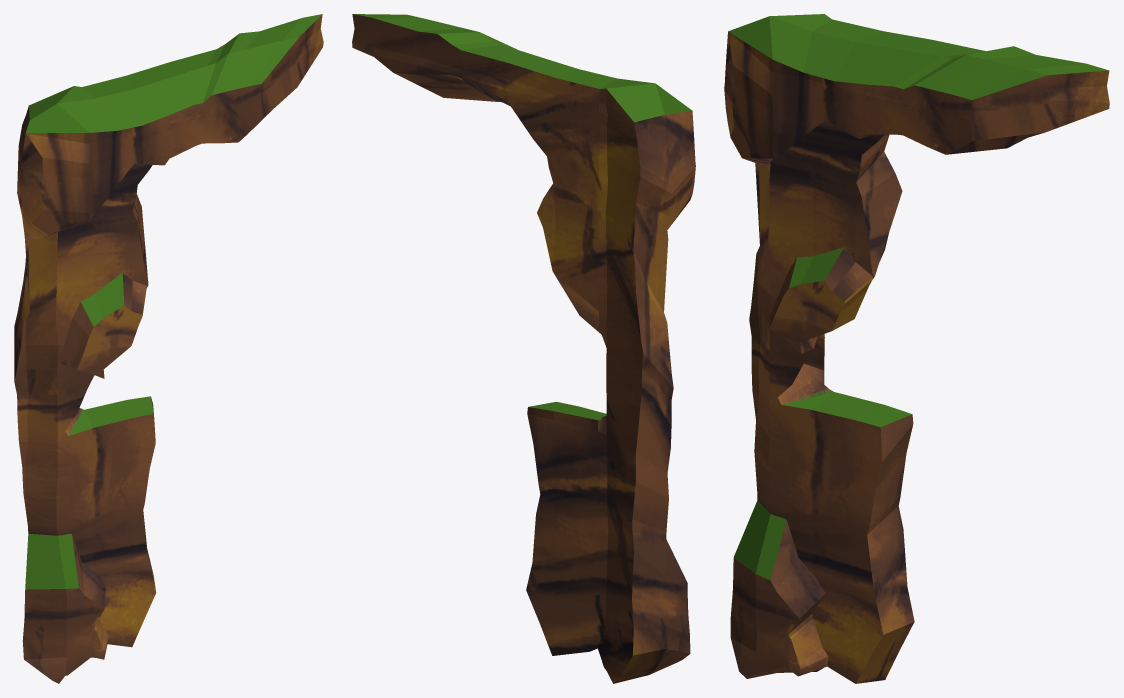
The model's file is sali32.obj.
The picture shows the model from 3 angles, left to right: view 1: azimuth 30°, elevation 25°; view 2: azimuth 150°, elevation 25°; view 3: azimuth 330°, elevation 25°; orthographic projection. The views are drawn at different scales.
Parts seen in each view (by area): view 1: Plane.011_Plane.017; view 2: Plane.011_Plane.017; view 3: Plane.011_Plane.017.
Boxes of the visible parts, x1,y1,x2,y2 form: Plane.011_Plane.017: (14,14,323,683); Plane.011_Plane.017: (352,14,695,683); Plane.011_Plane.017: (724,14,1109,683).
Size of the model in its own units: 241 by 425 by 55.76.
1 material, 1 textured.
